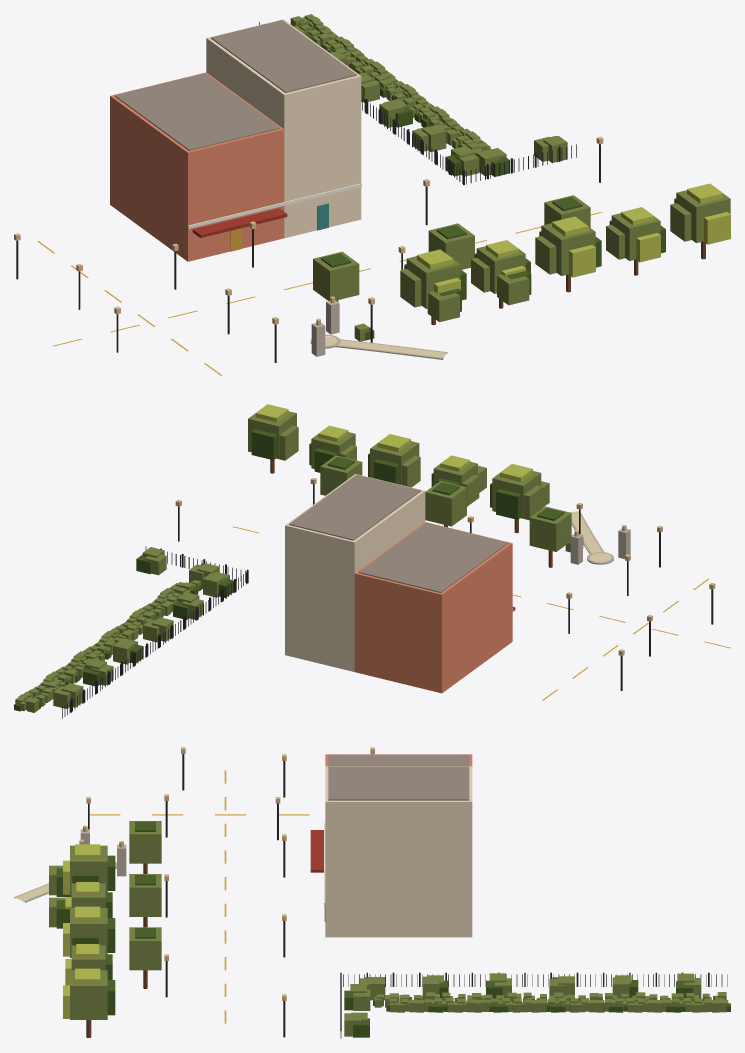
File: chunk_-2_-2.glb
The picture shows the model from 3 angles, top to bottom: view 1: azimuth 30°, elevation 25°; view 2: azimuth 150°, elevation 25°; view 3: azimuth 270°, elevation 25°; orthographic projection. The views are drawn at different scales.
Visible parts, largest first — view 1: chunk_-2_-2__building, chunk_-2_-2__tree, chunk_-2_-2__ground, chunk_-2_-2__lamp, chunk_-2_-2__feat_garden, chunk_-2_-2__feat_gate; view 2: chunk_-2_-2__building, chunk_-2_-2__tree, chunk_-2_-2__feat_garden, chunk_-2_-2__ground, chunk_-2_-2__lamp, chunk_-2_-2__feat_gate; view 3: chunk_-2_-2__building, chunk_-2_-2__tree, chunk_-2_-2__lamp, chunk_-2_-2__feat_garden, chunk_-2_-2__ground, chunk_-2_-2__feat_gate.
Boxes of the visible parts, box(x1,y1,x2,y2) form: chunk_-2_-2__building: box(110, 19, 361, 261); chunk_-2_-2__tree: box(290, 14, 730, 341); chunk_-2_-2__ground: box(37, 212, 602, 375); chunk_-2_-2__lamp: box(14, 136, 603, 362); chunk_-2_-2__feat_garden: box(259, 22, 576, 185); chunk_-2_-2__feat_gate: box(311, 296, 339, 356); chunk_-2_-2__building: box(285, 474, 515, 693); chunk_-2_-2__tree: box(14, 404, 583, 712); chunk_-2_-2__feat_garden: box(62, 546, 248, 718); chunk_-2_-2__ground: box(233, 511, 730, 700); chunk_-2_-2__lamp: box(175, 477, 715, 690); chunk_-2_-2__feat_gate: box(570, 525, 630, 564); chunk_-2_-2__building: box(310, 754, 472, 937); chunk_-2_-2__tree: box(49, 821, 730, 1037); chunk_-2_-2__lamp: box(79, 747, 374, 1037); chunk_-2_-2__feat_garden: box(340, 972, 727, 1038); chunk_-2_-2__ground: box(14, 770, 309, 1023); chunk_-2_-2__feat_gate: box(80, 825, 126, 876).
Bounding box in the file's own units: 61.78 × 14.32 × 68.23.
